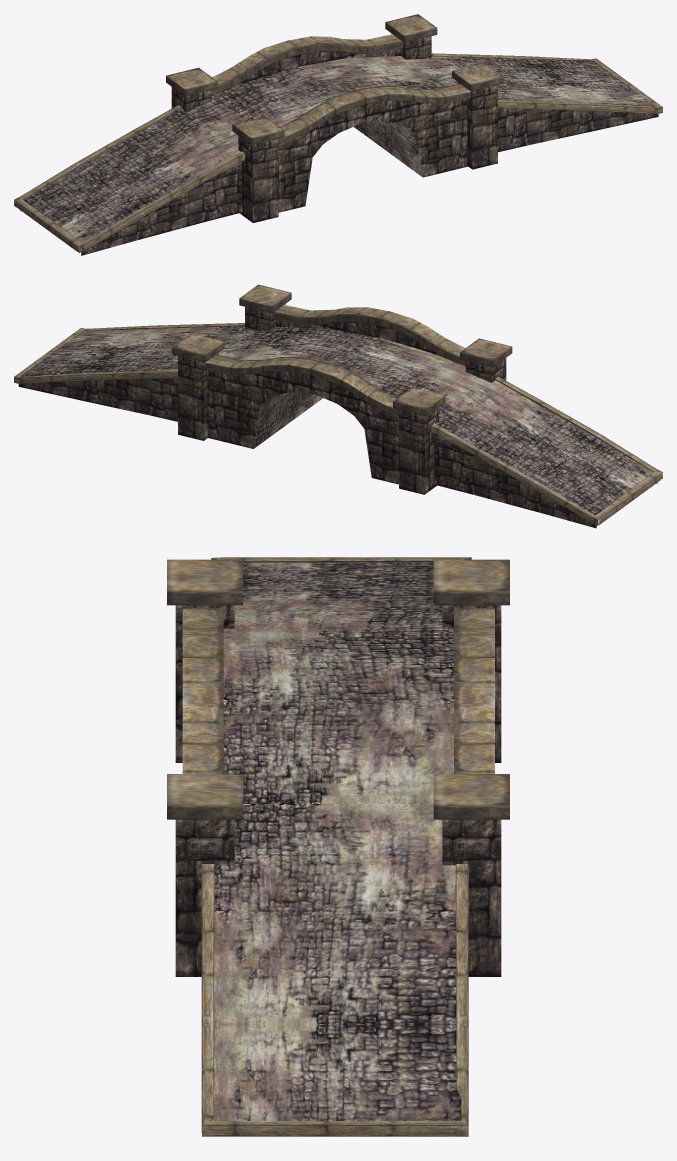
The model's file is bridge_port_royal.fbx.
3 renders of one model, top to bottom at view 1: azimuth 30°, elevation 25°; view 2: azimuth 150°, elevation 25°; view 3: azimuth 270°, elevation 25°, orthographic. The views are drawn at different scales.
Visible parts, largest first — view 1: polySurface36, polySurface13, nurbsToPoly12, nurbsToPoly18, polySurface10, polySurface70, polySurface12, polySurface14, polySurface16, polySurface21, polySurface9, polySurface11 (+1 smaller); view 2: polySurface36, polySurface13, nurbsToPoly11, nurbsToPoly17, polySurface9, polySurface70, polySurface11, polySurface16, polySurface14, polySurface21, polySurface10, polySurface12 (+1 smaller); view 3: polySurface36, polySurface21, polySurface11, polySurface12, polySurface14, polySurface16, polySurface10, polySurface9, polySurface70.
Boxes of the visible parts, x1,y1,x2,y2 form: polySurface36: [24, 56, 655, 242]; polySurface13: [278, 99, 467, 212]; nurbsToPoly12: [81, 161, 242, 255]; nurbsToPoly18: [498, 103, 658, 152]; polySurface10: [232, 116, 284, 222]; polySurface70: [14, 105, 245, 252]; polySurface12: [452, 63, 503, 169]; polySurface14: [278, 84, 470, 144]; polySurface16: [212, 34, 402, 94]; polySurface21: [431, 53, 662, 113]; polySurface9: [166, 67, 217, 111]; polySurface11: [385, 14, 437, 59]; polySurface36: [20, 326, 653, 515]; polySurface13: [208, 370, 398, 484]; nurbsToPoly11: [434, 433, 596, 528]; nurbsToPoly17: [18, 372, 177, 421]; polySurface9: [393, 387, 445, 494]; polySurface70: [431, 376, 662, 525]; polySurface11: [172, 333, 224, 440]; polySurface16: [205, 354, 398, 415]; polySurface14: [273, 304, 465, 365]; polySurface21: [14, 323, 244, 383]; polySurface10: [460, 338, 512, 382]; polySurface12: [239, 284, 291, 330]; polySurface36: [213, 562, 461, 1120]; polySurface21: [201, 864, 468, 1136]; polySurface11: [433, 774, 509, 976]; polySurface12: [167, 774, 243, 976]; polySurface14: [182, 608, 223, 773]; polySurface16: [454, 608, 494, 773]; polySurface10: [167, 559, 243, 762]; polySurface9: [433, 559, 509, 762]; polySurface70: [211, 557, 471, 562].
Bounding box in the file's own units: 11671 × 1883 × 2978.
Materials: 3 (3 with a texture image).
